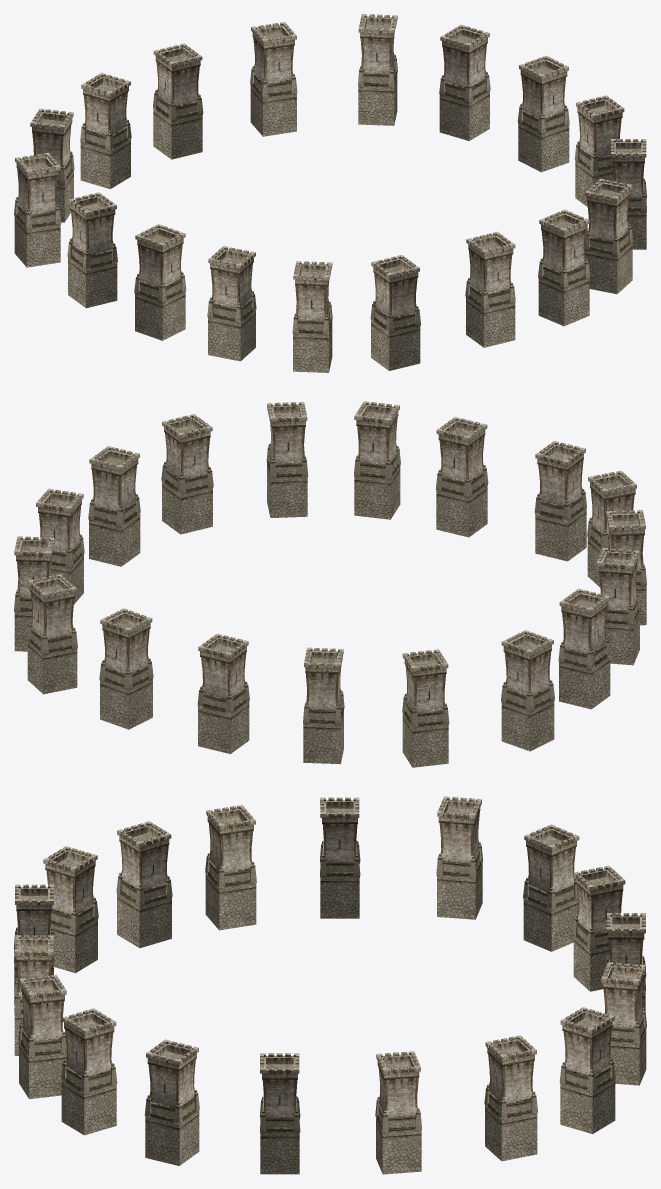
The model's file is campaign_curtainwalltowers_hele.dae.
The picture shows the model from 3 angles, top to bottom: view 1: azimuth 30°, elevation 25°; view 2: azimuth 150°, elevation 25°; view 3: azimuth 270°, elevation 25°; orthographic projection. The views are drawn at different scales.
Visible parts, largest first — view 1: rome_wall_tower063; view 2: rome_wall_tower063; view 3: rome_wall_tower063.
Boxes of the visible parts, x1=… form: rome_wall_tower063: x1=14, y1=14, x2=646, y2=372; rome_wall_tower063: x1=14, y1=401, x2=646, y2=767; rome_wall_tower063: x1=14, y1=796, x2=646, y2=1174.
Size of the model in its own units: 44.77 by 7.93 by 43.63.
